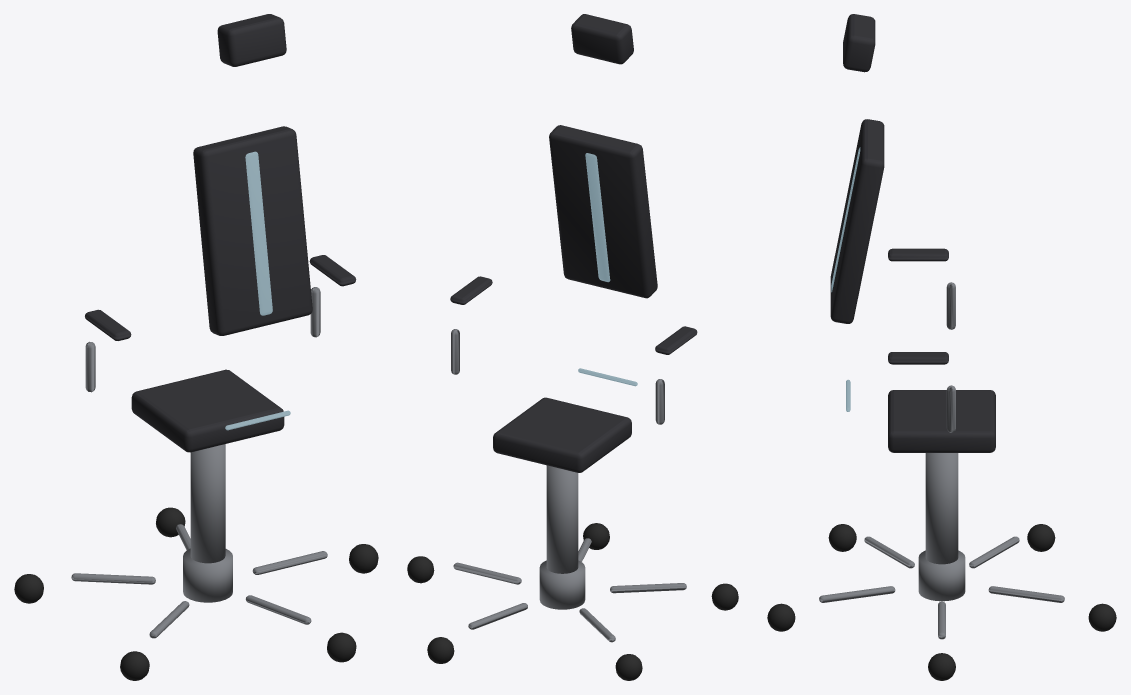
Rendered from chair.glb.
3 views of the same model, side by side, from view 1: azimuth 30°, elevation 25°; view 2: azimuth 150°, elevation 25°; view 3: azimuth 270°, elevation 25° (orthographic). The views are drawn at different scales.
Visible parts, largest first — view 1: Chair; view 2: Chair; view 3: Chair.
Part boxes in pixels (x1,y1,x2,y2): Chair: (14,14,378,680); Chair: (407,14,738,680); Chair: (767,14,1116,680).
Bounding box in the file's own units: 0.7112 × 1.37 × 0.7448.
